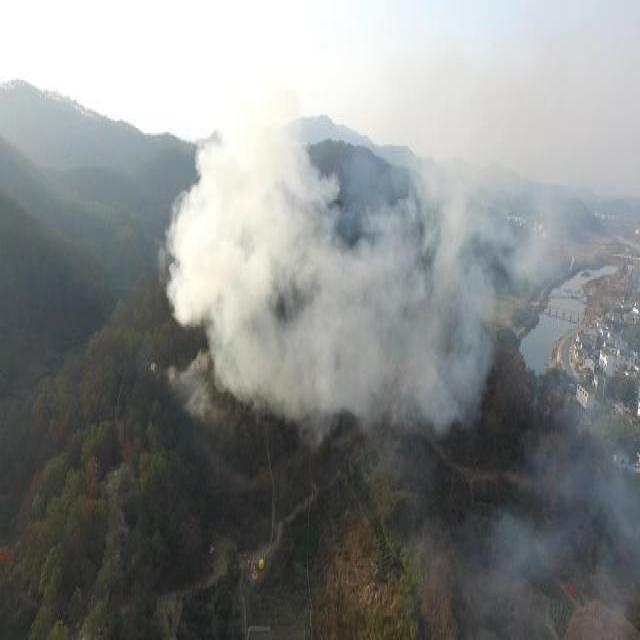Smoke: (158, 35, 640, 640)
